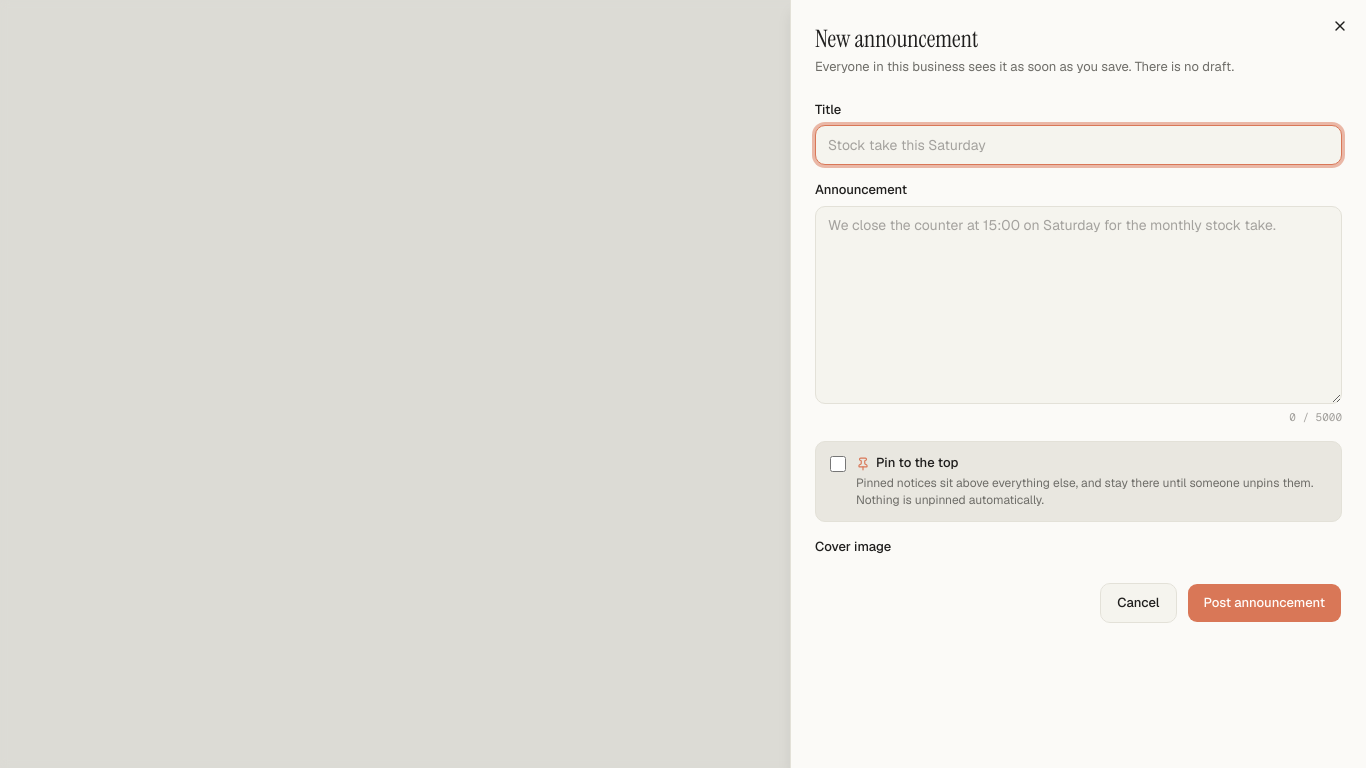
AnnouncementFormSheet — refusals › surfaces a refusal it has no control for rather than staying silent
In the field labelled "Title": (1078, 145) [815,125,1342,165], type "T"
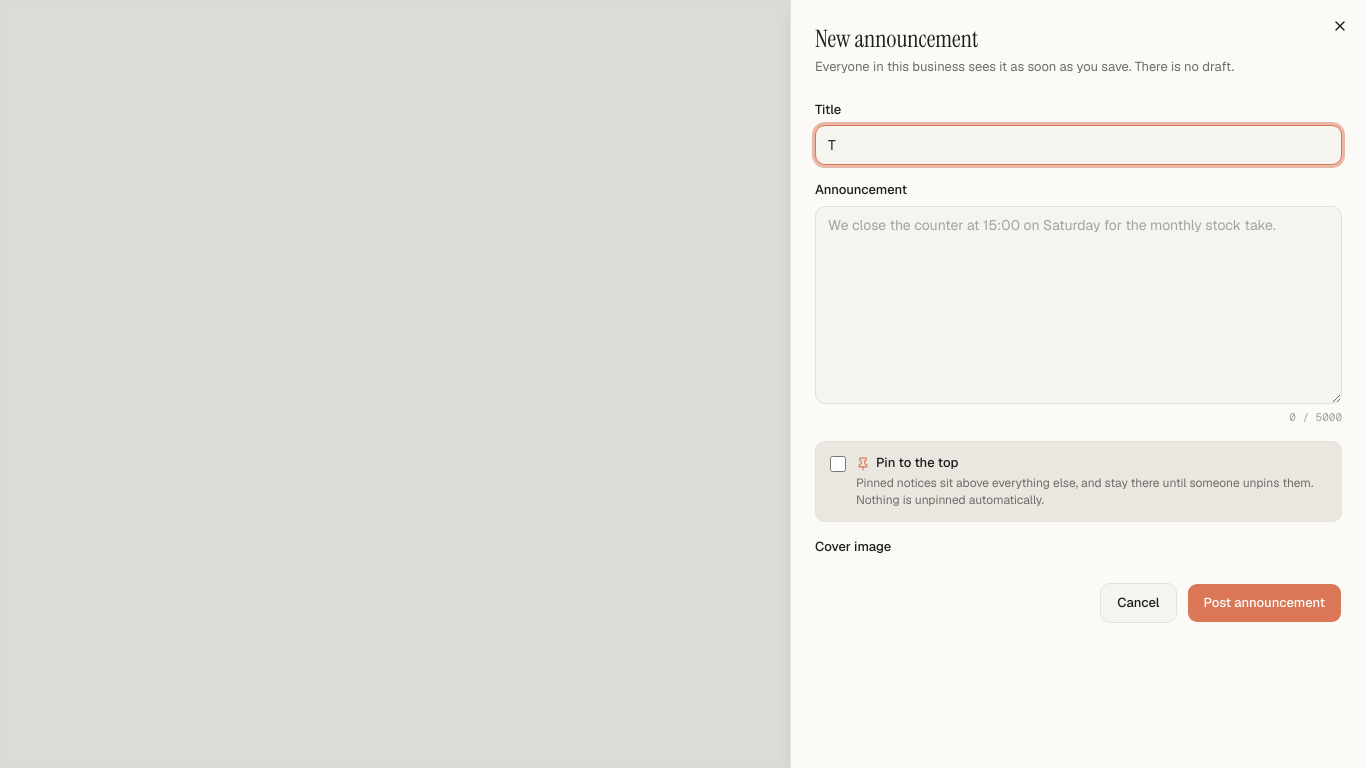
In the text box labelled "Announcement": (1078, 305) [815,206,1342,404], type "B"
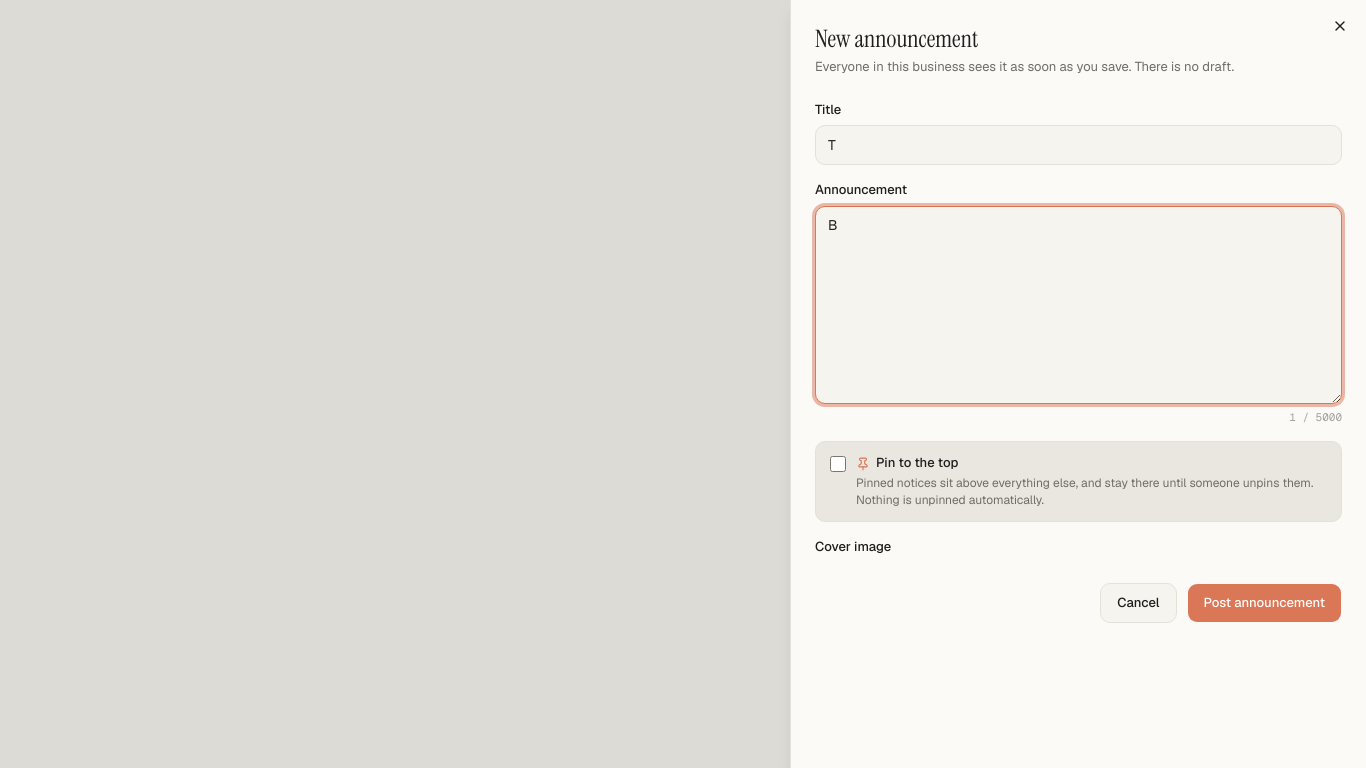
Click the button "Post announcement": click(1264, 603) [1186,583,1342,623]
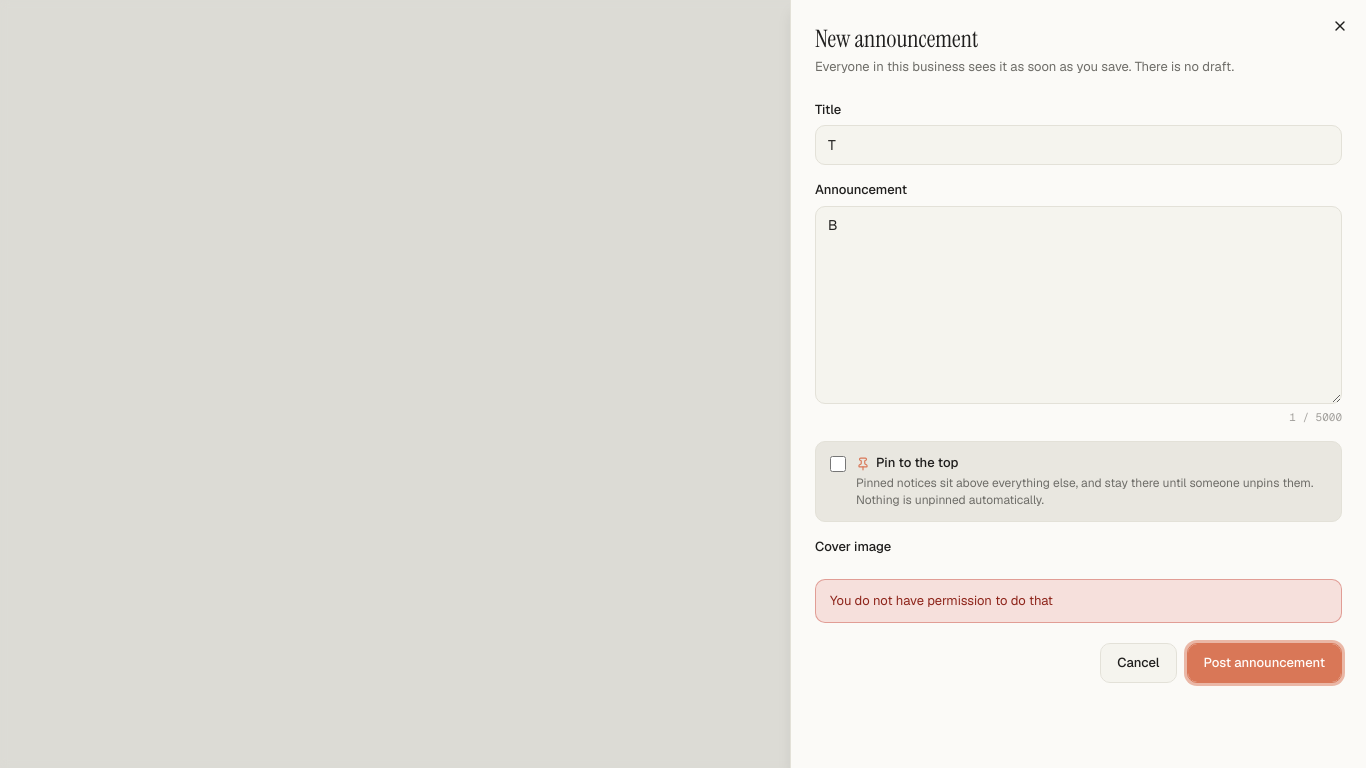
Now the message reads "You do not have permission to do that", box [830,592,1053,609]
